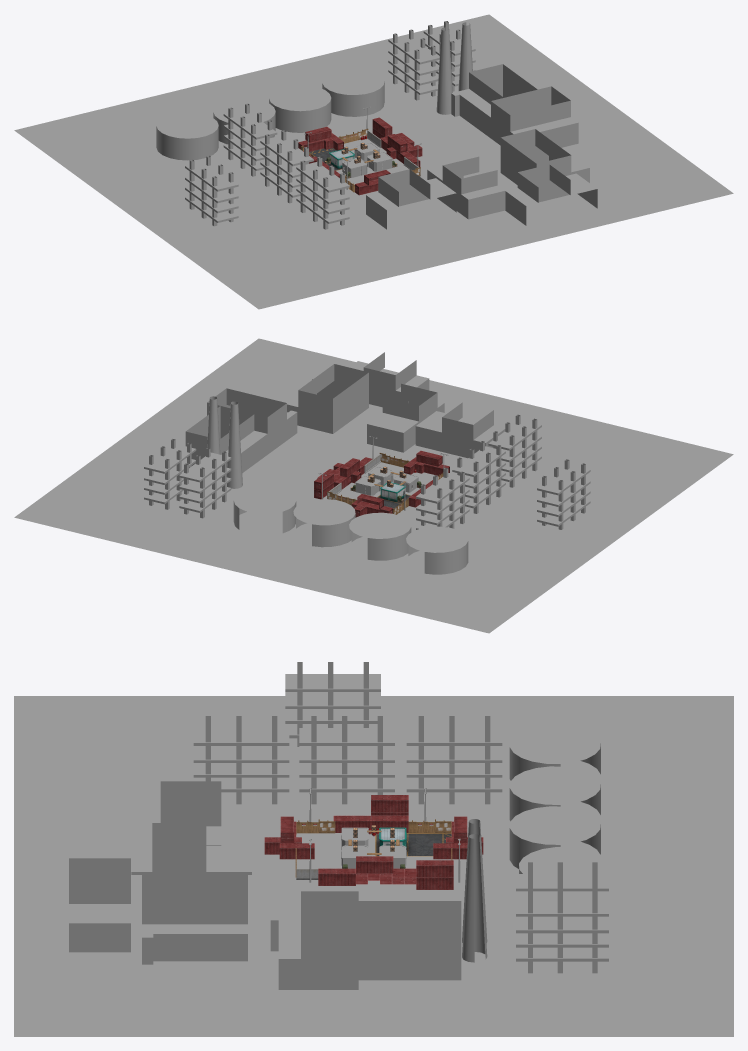
File: Environment.fbx
3 renders of one model, top to bottom at view 1: azimuth 30°, elevation 25°; view 2: azimuth 150°, elevation 25°; view 3: azimuth 270°, elevation 25°, orthographic. The views are drawn at different scales.
Parts seen in each view (by area): view 1: pPlane9, Props_02, Props_02_34, Props_02_28, Props_02_30, Props_02_15, Props_02_27, Props_02_31, Block04, Block01, Block03; view 2: pPlane9, Props_02, Props_02_28, Props_02_30, Props_02_15, Props_02_27, Props_02_34, Props_02_31, Block02, Block01, Block03; view 3: pPlane9, Props_02, Props_02_15, Props_02_27, Props_02_34, Props_02_31, Props_02_28, Props_02_30, Block01, Block03, Block04, container_low3 (+4 smaller).
Part boxes in pixels (bbox=[...]): pPlane9: bbox=[14, 14, 733, 309]; Props_02: bbox=[156, 22, 597, 229]; Props_02_34: bbox=[296, 156, 349, 229]; Props_02_28: bbox=[185, 155, 238, 226]; Props_02_30: bbox=[388, 29, 439, 100]; Props_02_15: bbox=[223, 103, 277, 176]; Props_02_27: bbox=[260, 130, 313, 203]; Props_02_31: bbox=[423, 21, 475, 91]; Block04: bbox=[367, 152, 408, 173]; Block01: bbox=[309, 148, 354, 170]; Block03: bbox=[337, 158, 370, 192]; pPlane9: bbox=[14, 338, 733, 633]; Props_02: bbox=[185, 352, 505, 574]; Props_02_28: bbox=[537, 459, 590, 529]; Props_02_30: bbox=[179, 447, 231, 518]; Props_02_15: bbox=[416, 467, 469, 529]; Props_02_27: bbox=[452, 441, 505, 513]; Props_02_34: bbox=[488, 414, 541, 487]; Props_02_31: bbox=[144, 439, 196, 509]; Block02: bbox=[337, 476, 380, 499]; Block01: bbox=[377, 482, 410, 508]; Block03: bbox=[393, 472, 437, 494]; pPlane9: bbox=[14, 696, 733, 1036]; Props_02: bbox=[69, 725, 609, 989]; Props_02_15: bbox=[406, 716, 502, 804]; Props_02_27: bbox=[299, 716, 394, 804]; Props_02_34: bbox=[193, 716, 289, 804]; Props_02_31: bbox=[516, 887, 608, 973]; Props_02_28: bbox=[285, 662, 380, 746]; Props_02_30: bbox=[516, 862, 608, 898]; Block01: bbox=[375, 827, 451, 856]; Block03: bbox=[296, 827, 372, 856]; Block04: bbox=[296, 845, 372, 880]; container_low3: bbox=[371, 795, 408, 812].
Bounding box in the file's own units: 376 × 66 × 335.
11 materials, 3 textured.
